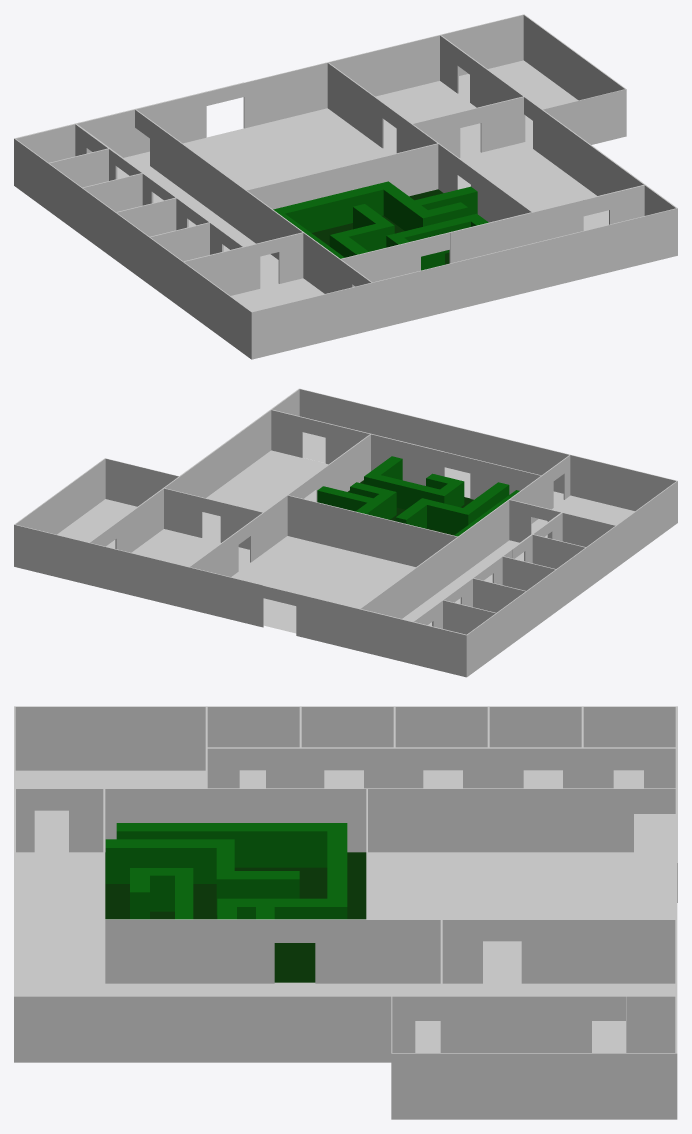
File: Blockout.fbx
3 views of the same model, one above another, from view 1: azimuth 30°, elevation 25°; view 2: azimuth 150°, elevation 25°; view 3: azimuth 270°, elevation 25° (orthographic). The views are drawn at different scales.
Parts seen in each view (by area): view 1: OuterWall, Plane.001, InnerWall.013, InnerWall.020, Corridor #2 Floor, OuterWall.004, InnerWall.016, OuterWall.002, Kitchedn Floor, OuterWall.005, InnerWall.027, Cube.004 (+28 smaller); view 2: OuterWall, Plane.001, InnerWall.013, InnerWall.020, Corridor #2 Floor, OuterWall.004, InnerWall.016, OuterWall.002, OuterWall.001, OuterWall.005, Kitchedn Floor, InnerWall.025 (+26 smaller); view 3: OuterWall, InnerWall.013, OuterWall.004, Plane.001, Corridor #1 floor, InnerWall.018, InnerWall.019, InnerWall.027, InnerWall.025, Cube, Courtyard Floor, Corridor #2 Floor (+30 smaller).
Part boxes in pixels (x1,y1,x2,y2): OuterWall: (14,14,676,359); Plane.001: (135,108,391,189); InnerWall.013: (150,120,353,293); InnerWall.020: (247,143,438,209); Corridor #2 Floor: (457,142,608,230); OuterWall.004: (541,109,677,255); InnerWall.016: (449,199,583,263); OuterWall.002: (243,62,327,128); Kitchedn Floor: (375,81,524,157); OuterWall.005: (543,89,626,144); InnerWall.027: (327,62,383,148); Cube.004: (278,184,383,232); OuterWall: (14,389,677,677); Plane.001: (231,536,415,633); InnerWall.013: (373,467,553,618); InnerWall.020: (287,495,457,566); Corridor #2 Floor: (202,450,328,541); OuterWall.004: (179,388,299,497); InnerWall.016: (325,423,444,485); OuterWall.002: (189,567,263,627); OuterWall.001: (296,593,359,650); OuterWall.005: (105,458,178,506); Kitchedn Floor: (131,529,249,570); InnerWall.025: (115,488,163,552); OuterWall: (14,706,677,1119); InnerWall.013: (69,788,633,852); OuterWall.004: (14,996,391,1062); Plane.001: (368,851,675,983); Corridor #1 floor: (15,851,103,995); InnerWall.018: (105,919,274,983); InnerWall.019: (315,919,482,983); InnerWall.027: (521,919,675,983); InnerWall.025: (442,996,591,1052); Cube: (116,823,347,867); Courtyard Floor: (105,852,366,982); Corridor #2 Floor: (105,982,440,1052).
Size of the model in its own units: 8280 by 734 by 6685.
